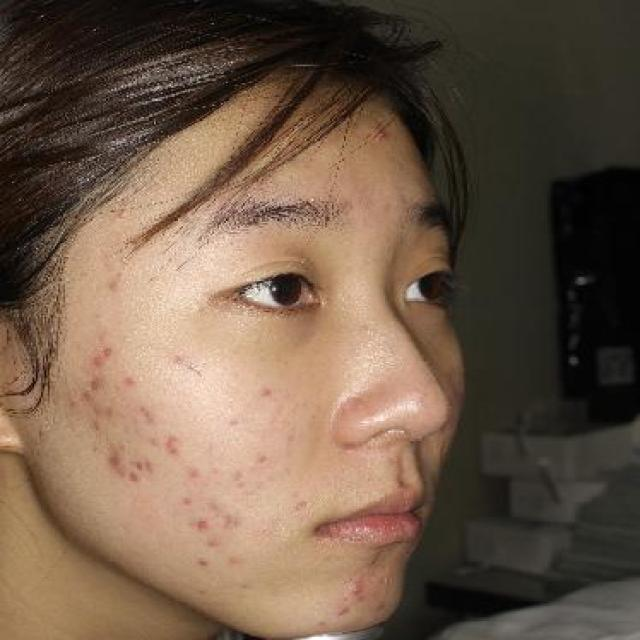dark spot: (132, 402, 159, 431), (99, 448, 132, 470), (161, 428, 185, 458), (130, 457, 157, 477), (192, 512, 214, 536), (252, 451, 277, 471), (120, 469, 144, 489), (170, 351, 192, 371), (116, 370, 140, 388), (257, 383, 277, 403), (222, 412, 242, 432), (175, 492, 195, 508), (192, 555, 212, 571), (184, 466, 203, 482), (89, 354, 108, 369), (78, 389, 98, 403), (105, 404, 124, 418), (99, 346, 118, 359), (65, 398, 80, 414)
pustules: (372, 124, 394, 144), (346, 581, 368, 597)
